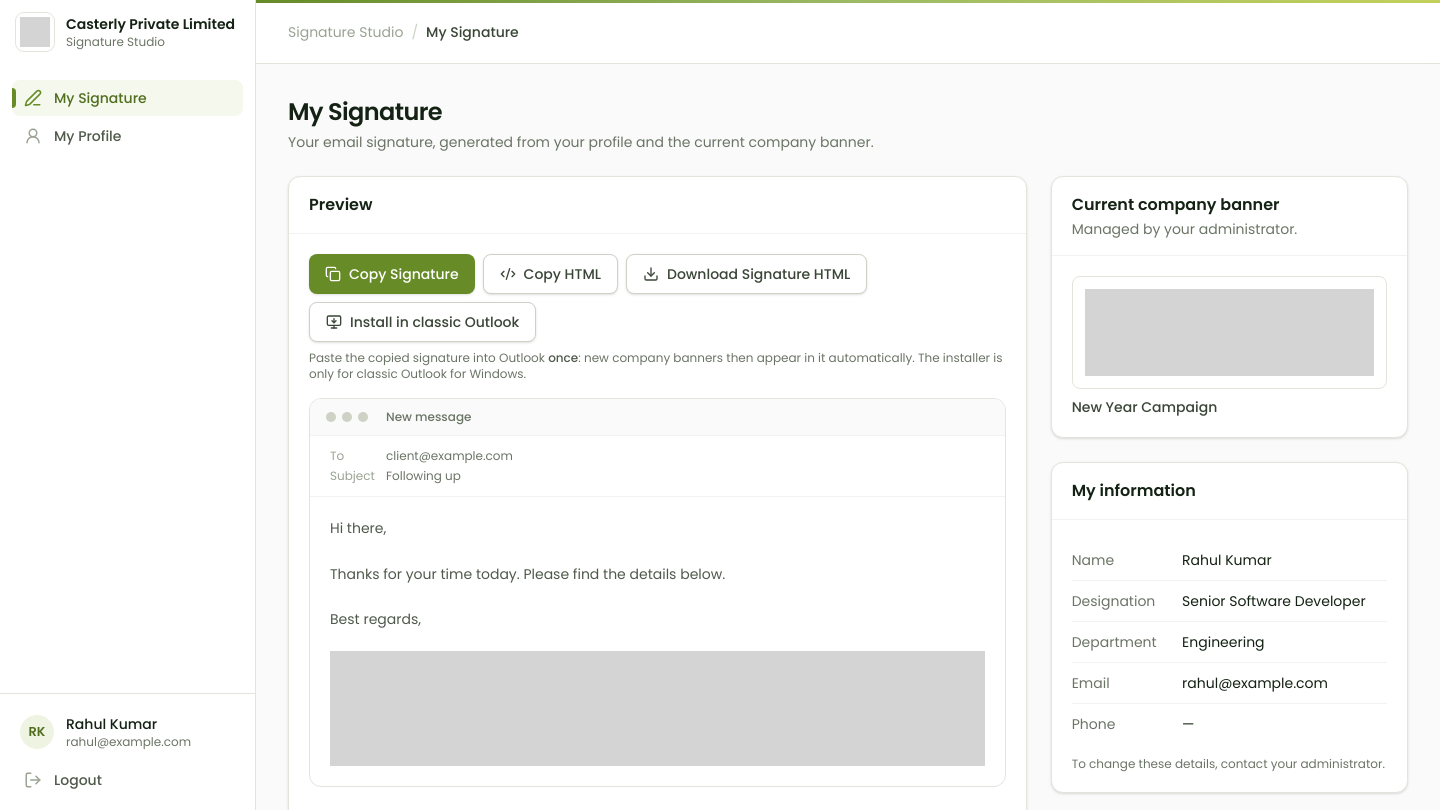
Test case: Employee signature page › copies the rendered signature as rich HTML
Expected: the text "New Year Campaign" is shown, [1072,397,1217,417]
Click the button "Copy Signature".
click(392, 274)  # box [309,254,475,294]
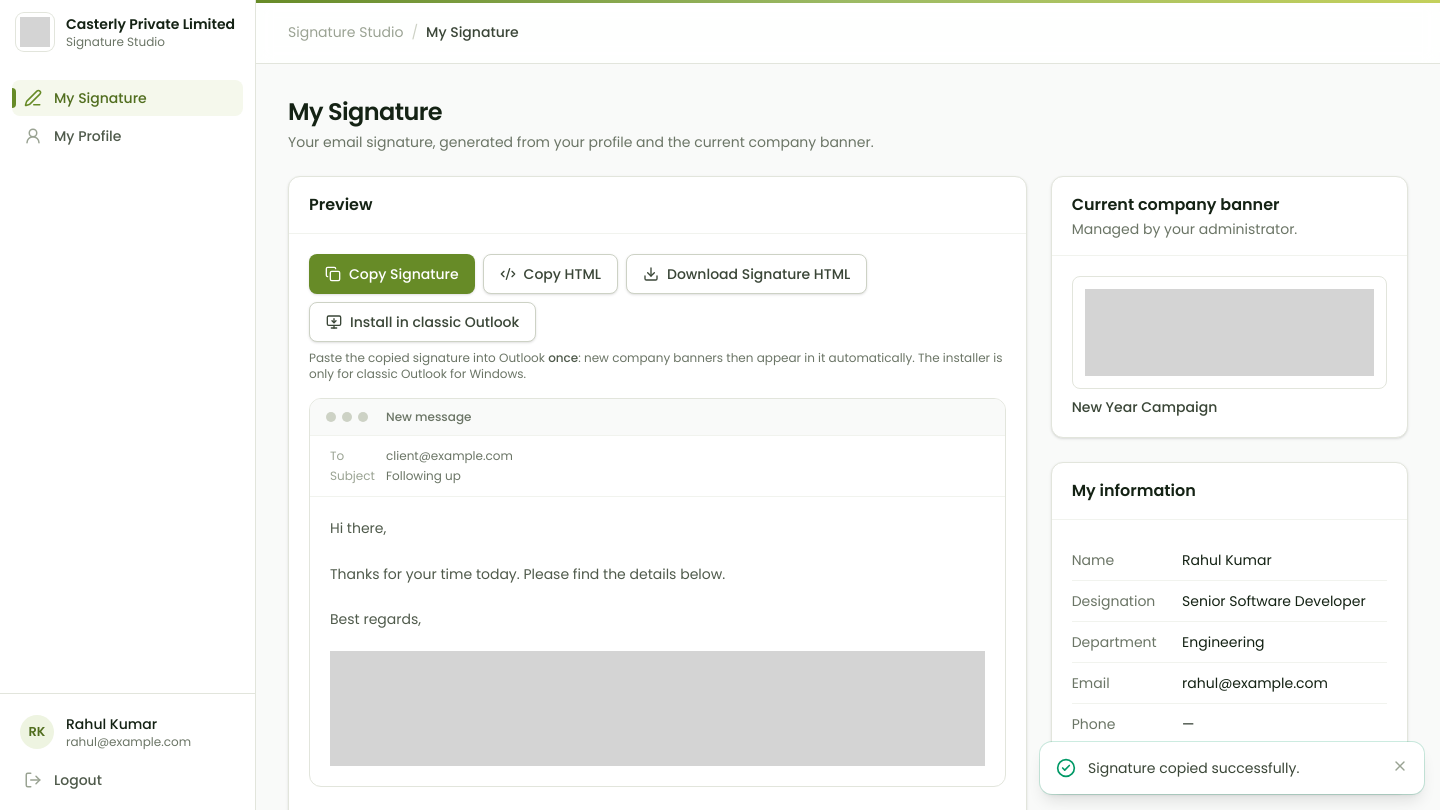
Expected: the text "Signature copied successfully." is shown, [1088,758,1299,778]
